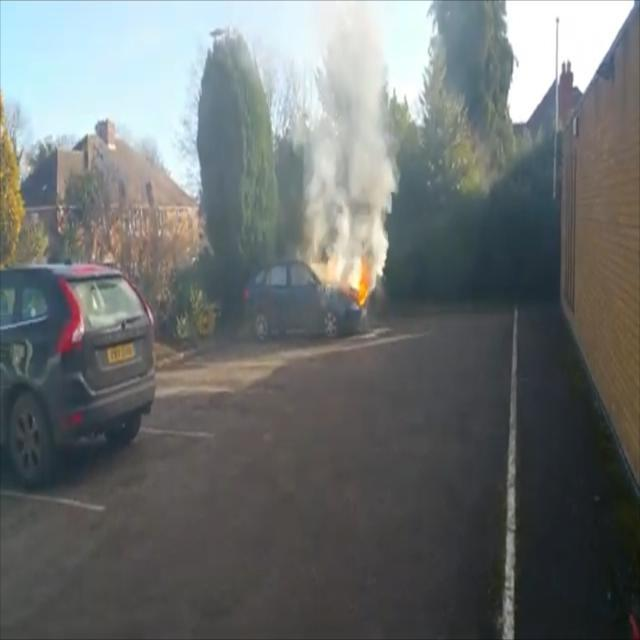fire: (318, 240, 377, 309)
